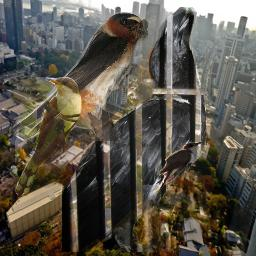Crow: (62, 7, 206, 252)
Cuckoo: (15, 77, 82, 198), (156, 141, 203, 197)
Swallow: (9, 12, 148, 141)
